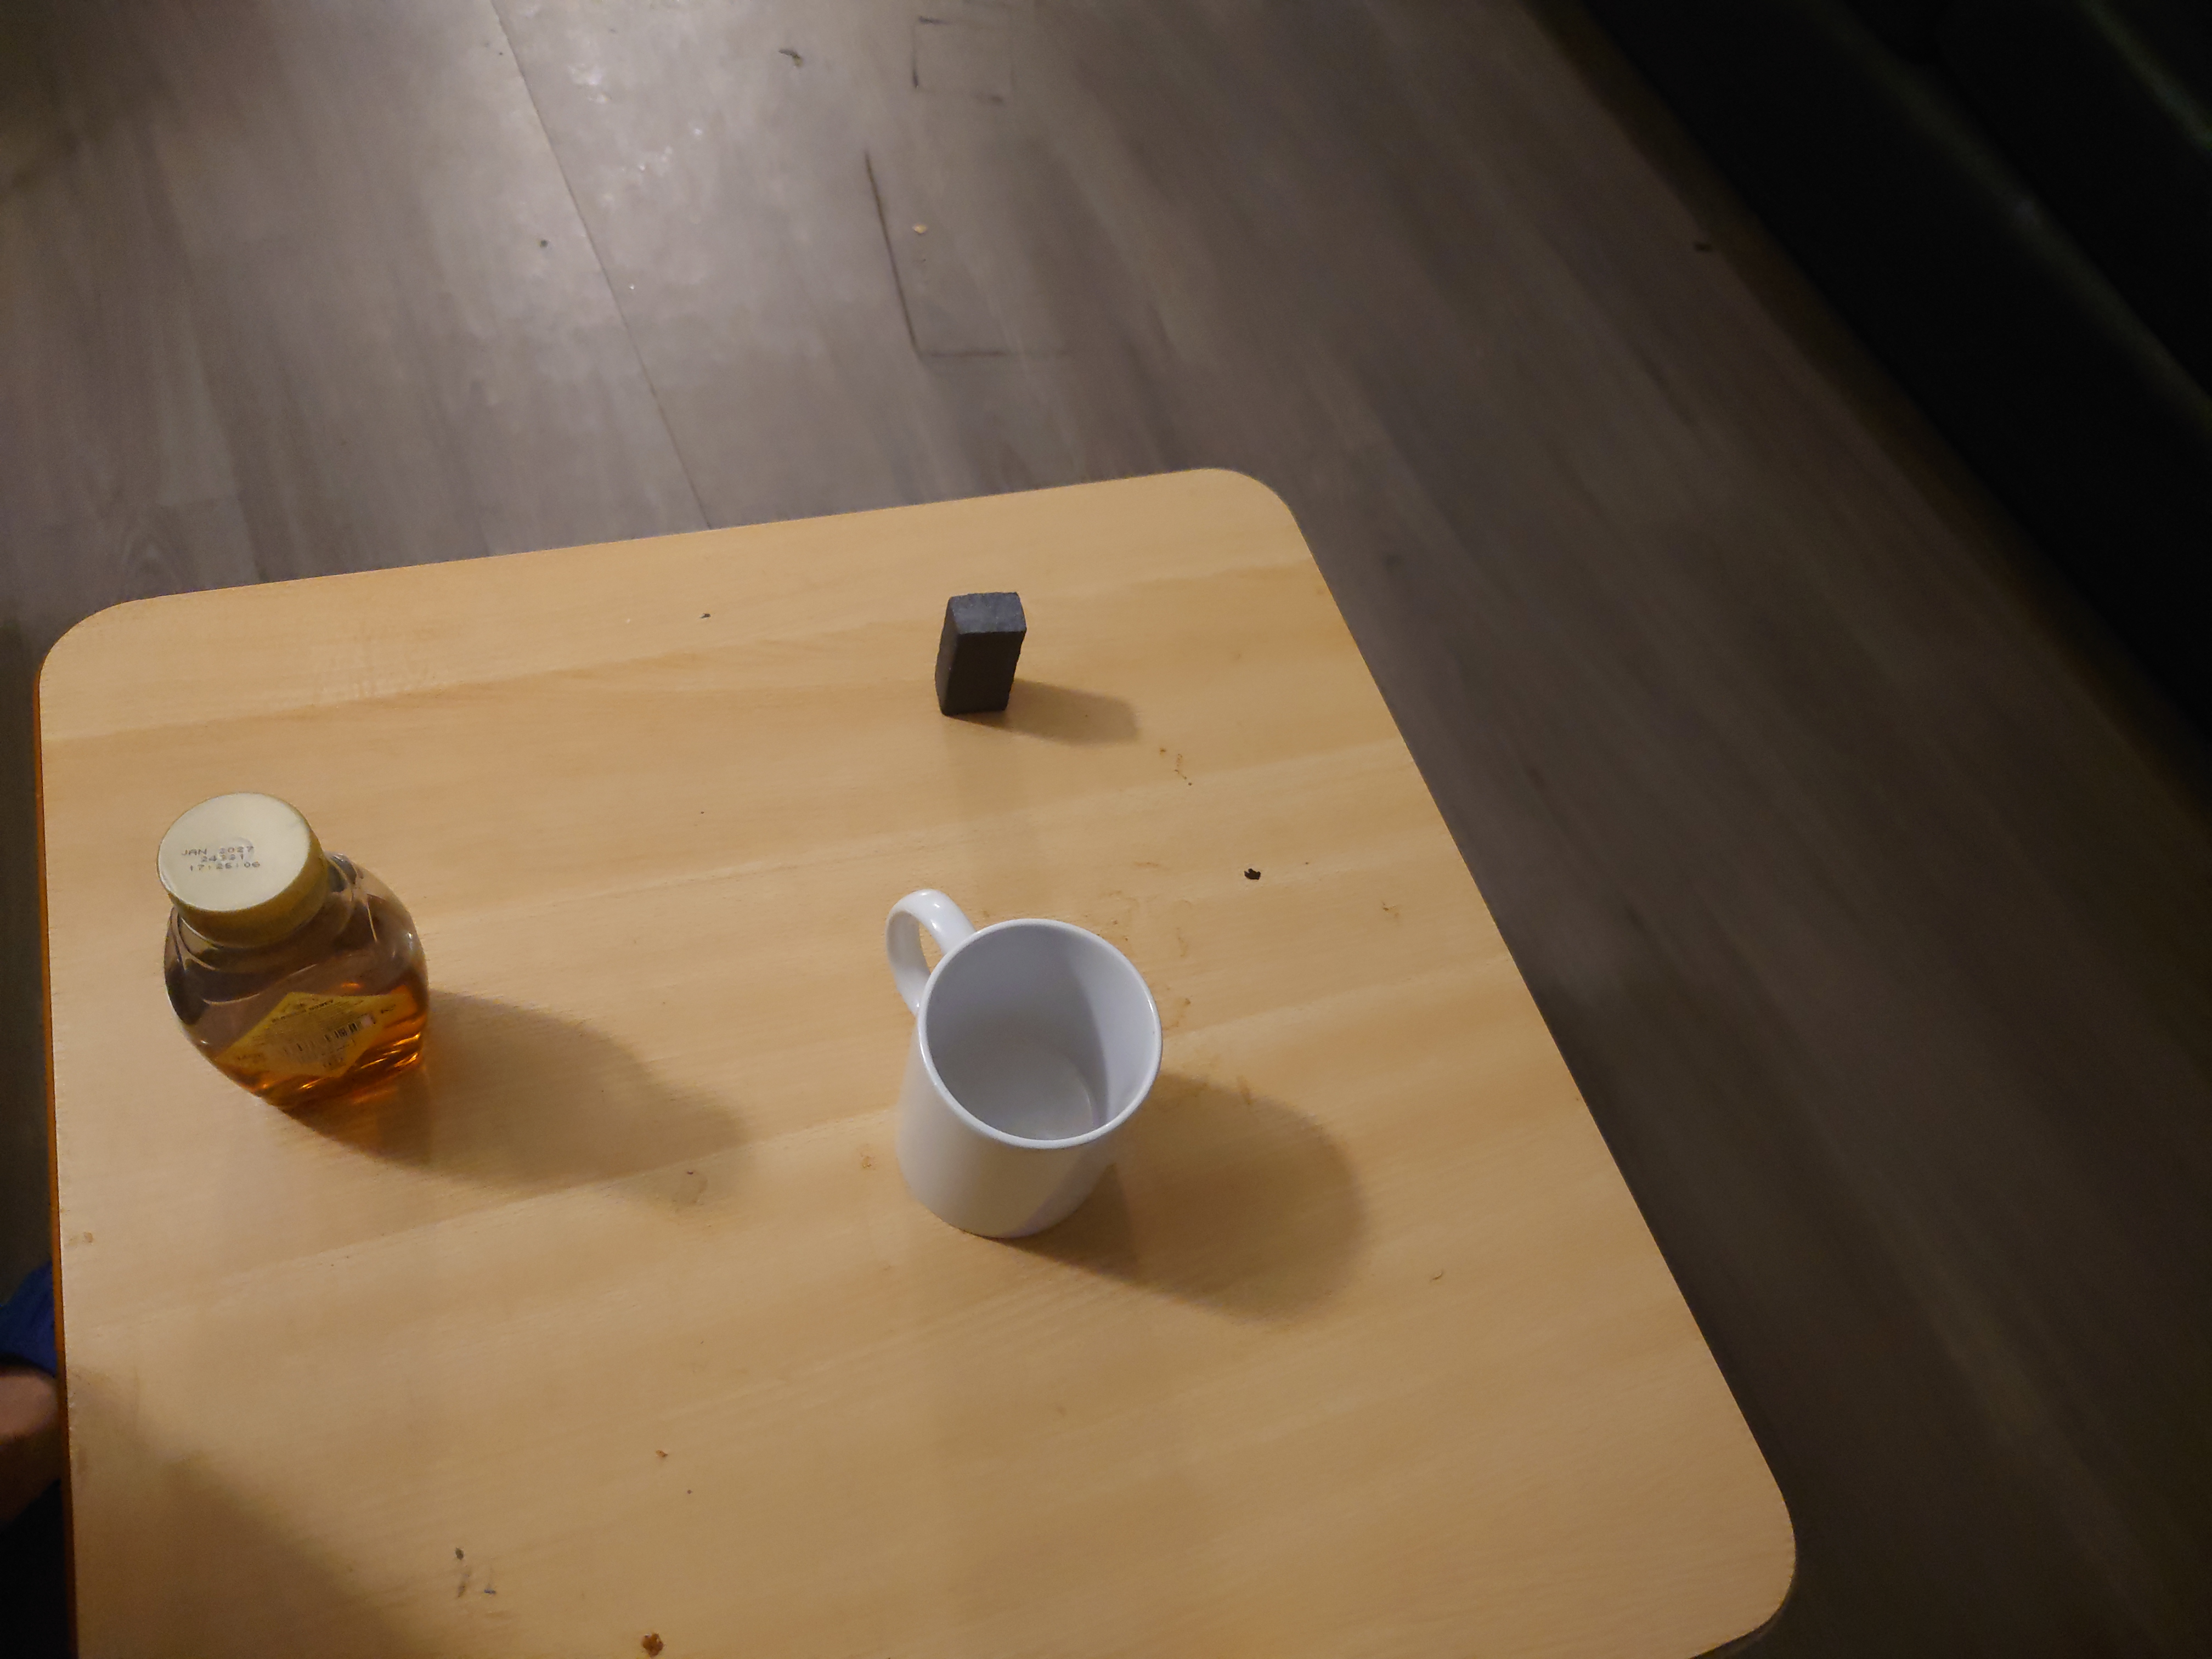cup: (878, 883, 1170, 1241)
target: (928, 576, 1028, 726)
